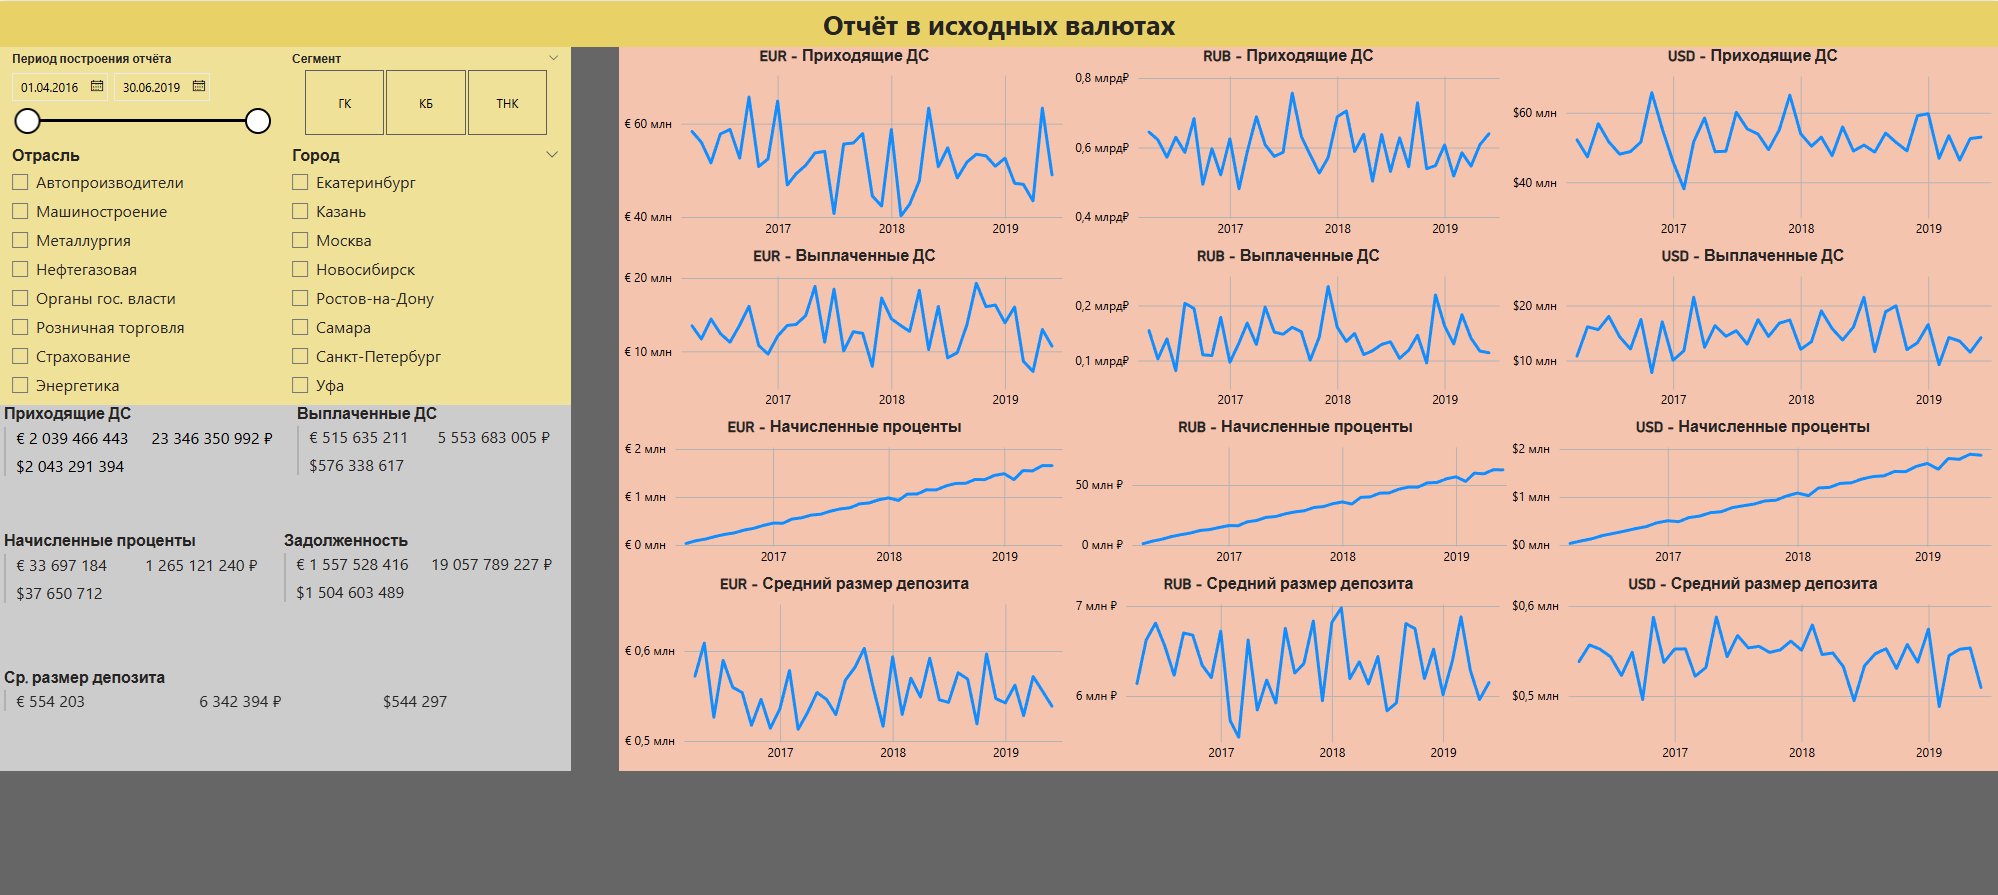

This screenshot's page, from the dashboard's own definition file:
{"tool":"powerbi","page":{"name":"Отчёт в исходных валютах","canvas":[2000,900],"ordinal":0},"visuals":[{"type":"slicer","fields":{"Values":["Календарь (Курс валют).Дата"]},"box":[0,46,280,95],"z":0},{"type":"slicer","fields":{"Values":["Клиенты.Отрасль"]},"box":[0,141,280,263],"z":1000},{"type":"slicer","fields":{"Values":["Клиенты.Сегмент"]},"box":[280,46,292,95],"z":2000},{"type":"slicer","fields":{"Values":["Клиенты.Город"]},"box":[280,141,292,263],"z":3000},{"type":"multiRowCard","title":"Приходящие ДС","fields":{"Values":["Меры для визуализации (EUR).EUR - Приходящие ДС","Меры для визуализации (RUB).RUB - Приходящие ДС","Меры для визуализации (USD).USD - Приходящие ДС"]},"box":[0,404,293,127],"z":4000},{"type":"multiRowCard","title":"Выплаченные ДС","fields":{"Values":["Меры для визуализации (EUR).EUR - Выплаченные ДС","Меры для визуализации (RUB).RUB - Выплаченные ДС","Меры для визуализации (USD).USD - Выплаченные ДС"]},"box":[293,404,279,127],"z":5000},{"type":"multiRowCard","title":"Начисленные проценты","fields":{"Values":["Меры для визуализации (EUR).EUR - Начисленные проценты","Меры для визуализации (RUB).RUB - Начисленные проценты","Меры для визуализации (USD).USD - Начисленные проценты"]},"box":[0,531,280,137],"z":6000},{"type":"multiRowCard","title":"Ср. размер депозита","fields":{"Values":["Меры для визуализации (EUR).EUR - Средний размер депозита","Меры для визуализации (RUB).RUB - Средний размер депозита","Меры для визуализации (USD).USD - Средний размер депозита"]},"box":[0,668,572,102],"z":7000},{"type":"multiRowCard","title":"Задолженность","fields":{"Values":["Меры для визуализации (EUR).EUR - Задолженность","Меры для визуализации (RUB).RUB - Задолженность","Меры для визуализации (USD).USD - Задолженность"]},"box":[280,531,292,137],"z":8000},{"type":"textbox","box":[0,0,2000,46],"z":9000},{"type":"lineChart","title":"EUR - Приходящие ДС ","fields":{"Y":["Меры для визуализации (EUR).EUR - Приходящие ДС"],"Category":["Календарь (Курс валют).Дата.Изменение.Иерархия дат.Год","Календарь (Курс валют).Дата.Изменение.Иерархия дат.Месяц"]},"box":[620,46,451,200],"z":10000},{"type":"lineChart","title":"EUR - Выплаченные ДС ","fields":{"Y":["Меры для визуализации (EUR).EUR - Выплаченные ДС"],"Category":["Календарь (Курс валют).Дата.Изменение.Иерархия дат.Год","Календарь (Курс валют).Дата.Изменение.Иерархия дат.Месяц"]},"box":[620,246,451,171],"z":11000},{"type":"lineChart","title":"EUR - Начисленные проценты ","fields":{"Y":["Меры для визуализации (EUR).EUR - Начисленные проценты"],"Category":["Календарь (Курс валют).Дата.Изменение.Иерархия дат.Год","Календарь (Курс валют).Дата.Изменение.Иерархия дат.Месяц"]},"box":[620,417,451,157],"z":12000},{"type":"lineChart","title":"EUR - Средний размер депозита ","fields":{"Y":["Меры для визуализации (EUR).EUR - Средний размер депозита"],"Category":["Календарь (Курс валют).Дата.Изменение.Иерархия дат.Год","Календарь (Курс валют).Дата.Изменение.Иерархия дат.Месяц"]},"box":[620,574,451,196],"z":13000},{"type":"lineChart","title":"RUB - Приходящие ДС","fields":{"Y":["Меры для визуализации (RUB).RUB - Приходящие ДС"],"Category":["Календарь (Курс валют).Дата.Изменение.Иерархия дат.Год","Календарь (Курс валют).Дата.Изменение.Иерархия дат.Месяц"]},"box":[1071,46,437,200],"z":14000},{"type":"lineChart","title":"RUB - Выплаченные ДС","fields":{"Y":["Меры для визуализации (RUB).RUB - Выплаченные ДС"],"Category":["Календарь (Курс валют).Дата.Изменение.Иерархия дат.Год","Календарь (Курс валют).Дата.Изменение.Иерархия дат.Месяц"]},"box":[1071,246,437,171],"z":15000},{"type":"lineChart","title":"RUB - Начисленные проценты","fields":{"Y":["Меры для визуализации (RUB).RUB - Начисленные проценты"],"Category":["Календарь (Курс валют).Дата.Изменение.Иерархия дат.Год","Календарь (Курс валют).Дата.Изменение.Иерархия дат.Месяц"]},"box":[1071,417,451,157],"z":16000},{"type":"lineChart","title":"RUB - Средний размер депозита","fields":{"Y":["Меры для визуализации (RUB).RUB - Средний размер депозита"],"Category":["Календарь (Курс валют).Дата.Изменение.Иерархия дат.Год","Календарь (Курс валют).Дата.Изменение.Иерархия дат.Месяц"]},"box":[1071,574,437,196],"z":17000},{"type":"lineChart","title":"USD - Приходящие ДС","fields":{"Y":["Меры для визуализации (USD).USD - Приходящие ДС"],"Category":["Календарь (Курс валют).Дата.Изменение.Иерархия дат.Год","Календарь (Курс валют).Дата.Изменение.Иерархия дат.Месяц"]},"box":[1508,46,492,200],"z":18000},{"type":"lineChart","title":"USD - Выплаченные ДС","fields":{"Y":["Меры для визуализации (USD).USD - Выплаченные ДС"],"Category":["Календарь (Курс валют).Дата.Изменение.Иерархия дат.Год","Календарь (Курс валют).Дата.Изменение.Иерархия дат.Месяц"]},"box":[1508,246,492,171],"z":19000},{"type":"lineChart","title":"USD - Начисленные проценты","fields":{"Y":["Меры для визуализации (USD).USD - Начисленные проценты"],"Category":["Календарь (Курс валют).Дата.Изменение.Иерархия дат.Год","Календарь (Курс валют).Дата.Изменение.Иерархия дат.Месяц"]},"box":[1508,417,492,157],"z":20000},{"type":"lineChart","title":"USD - Средний размер депозита ","fields":{"Y":["Меры для визуализации (USD).USD - Средний размер депозита"],"Category":["Календарь (Курс валют).Дата.Изменение.Иерархия дат.Год","Календарь (Курс валют).Дата.Изменение.Иерархия дат.Месяц"]},"box":[1508,574,492,196],"z":21000}]}

Visuals, with their boxes in screenshot pixels (x1, y1, x2, y2), scaled from the page's 2000x900 canvas onto the 1998x895 screenshot:
slicer - Календарь (Курс валют).Дата: {"x1": 0, "y1": 46, "x2": 280, "y2": 140}
slicer - Клиенты.Отрасль: {"x1": 0, "y1": 140, "x2": 280, "y2": 402}
slicer - Клиенты.Сегмент: {"x1": 280, "y1": 46, "x2": 571, "y2": 140}
slicer - Клиенты.Город: {"x1": 280, "y1": 140, "x2": 571, "y2": 402}
"Приходящие ДС" multiRowCard: {"x1": 0, "y1": 402, "x2": 293, "y2": 528}
"Выплаченные ДС" multiRowCard: {"x1": 293, "y1": 402, "x2": 571, "y2": 528}
"Начисленные проценты" multiRowCard: {"x1": 0, "y1": 528, "x2": 280, "y2": 664}
"Ср. размер депозита" multiRowCard: {"x1": 0, "y1": 664, "x2": 571, "y2": 766}
"Задолженность" multiRowCard: {"x1": 280, "y1": 528, "x2": 571, "y2": 664}
textbox: {"x1": 0, "y1": 0, "x2": 1997, "y2": 46}
"EUR - Приходящие ДС " lineChart: {"x1": 619, "y1": 46, "x2": 1070, "y2": 245}
"EUR - Выплаченные ДС " lineChart: {"x1": 619, "y1": 245, "x2": 1070, "y2": 415}
"EUR - Начисленные проценты " lineChart: {"x1": 619, "y1": 415, "x2": 1070, "y2": 571}
"EUR - Средний размер депозита " lineChart: {"x1": 619, "y1": 571, "x2": 1070, "y2": 766}
"RUB - Приходящие ДС" lineChart: {"x1": 1070, "y1": 46, "x2": 1506, "y2": 245}
"RUB - Выплаченные ДС" lineChart: {"x1": 1070, "y1": 245, "x2": 1506, "y2": 415}
"RUB - Начисленные проценты" lineChart: {"x1": 1070, "y1": 415, "x2": 1520, "y2": 571}
"RUB - Средний размер депозита" lineChart: {"x1": 1070, "y1": 571, "x2": 1506, "y2": 766}
"USD - Приходящие ДС" lineChart: {"x1": 1506, "y1": 46, "x2": 1997, "y2": 245}
"USD - Выплаченные ДС" lineChart: {"x1": 1506, "y1": 245, "x2": 1997, "y2": 415}
"USD - Начисленные проценты" lineChart: {"x1": 1506, "y1": 415, "x2": 1997, "y2": 571}
"USD - Средний размер депозита " lineChart: {"x1": 1506, "y1": 571, "x2": 1997, "y2": 766}
